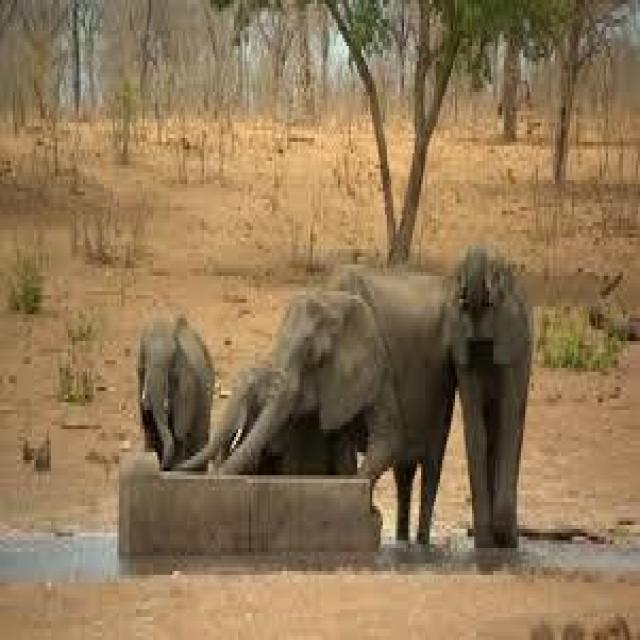Elephant: (210, 260, 455, 550), (440, 234, 533, 552), (128, 284, 212, 472)
